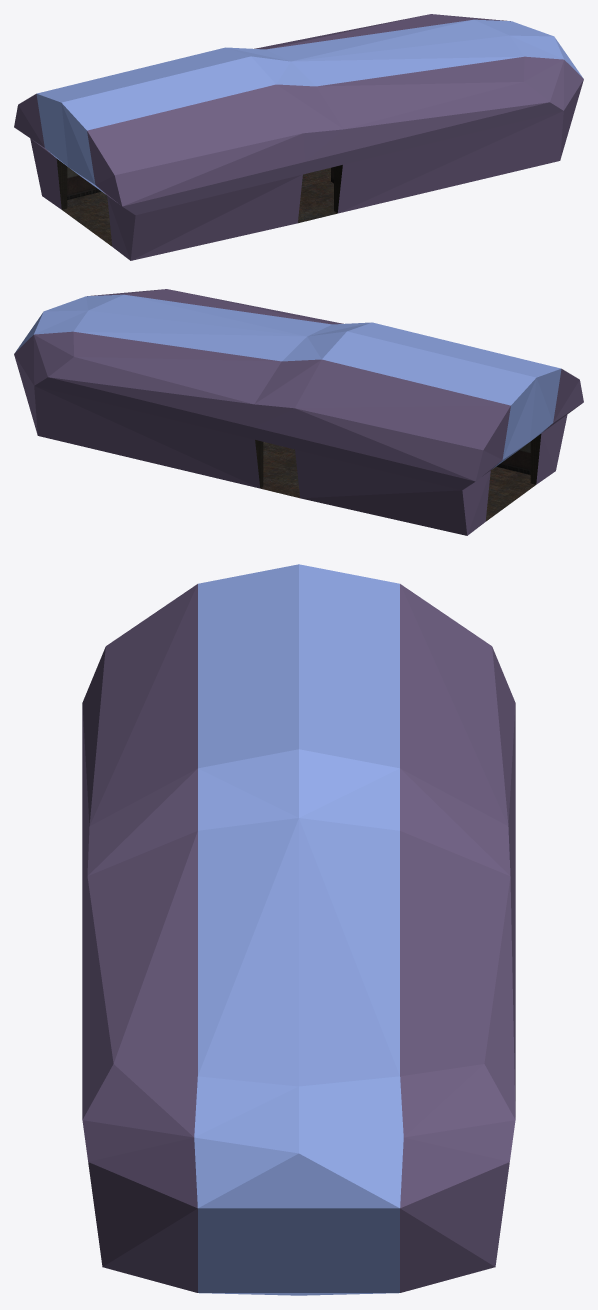
Rendered from Ship2.glb.
3 views of the same model, one above another, from view 1: azimuth 30°, elevation 25°; view 2: azimuth 150°, elevation 25°; view 3: azimuth 270°, elevation 25° (orthographic). The views are drawn at different scales.
Parts seen in each view (by area): view 1: Chassis -convcolonly; view 2: Chassis -convcolonly; view 3: Chassis -convcolonly.
Boxes of the visible parts, x1=… form: Chassis -convcolonly: x1=14, y1=14, x2=583, y2=260; Chassis -convcolonly: x1=14, y1=289, x2=583, y2=535; Chassis -convcolonly: x1=82, y1=564, x2=515, y2=1295.
Size of the model in its own units: 48.02 by 13.5 by 18.11.
10 materials, 8 textured.
